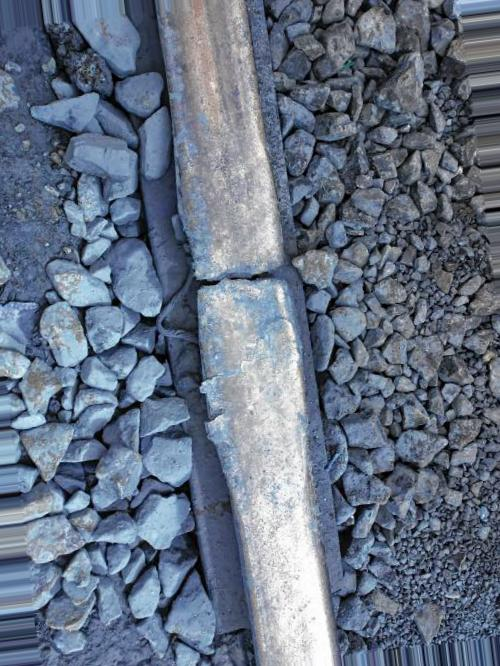tracks_fault: (161, 200, 355, 465)
